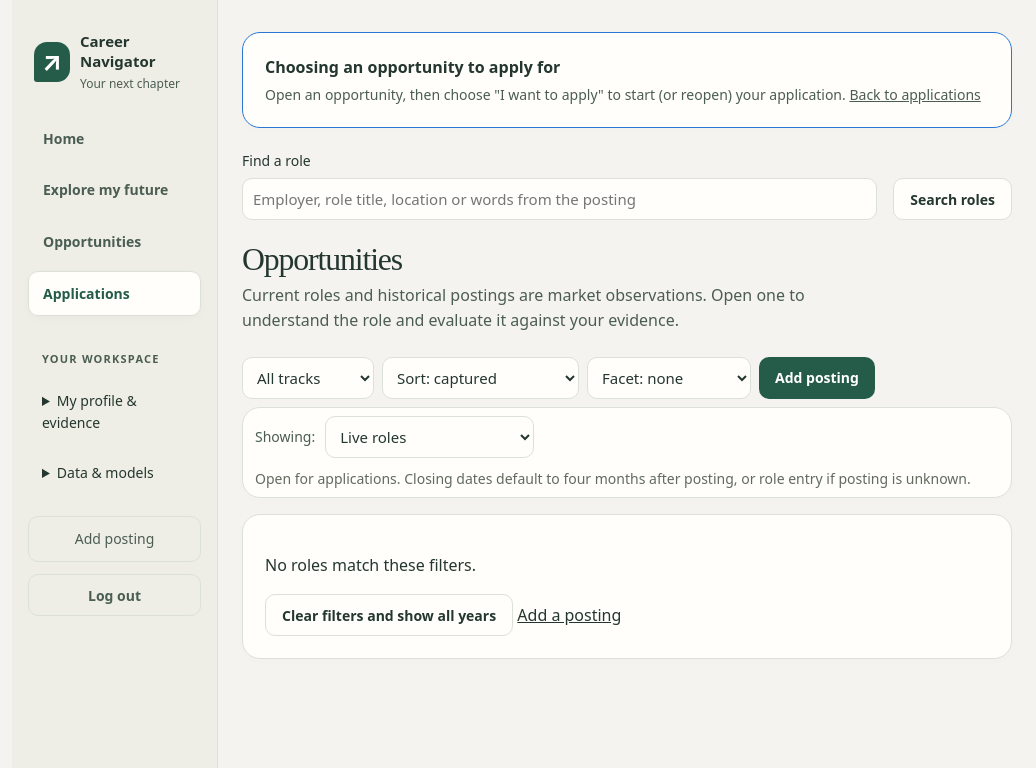
Test: pre-application intent (Applications → Opportunities) › "clear filters" keeps the intent
What coordinates should you click on to do the following:
click the button "Clear filters and show all years"
I would click on:
 (389, 615)
Its box is [265,594,513,636].
(page scrolled)
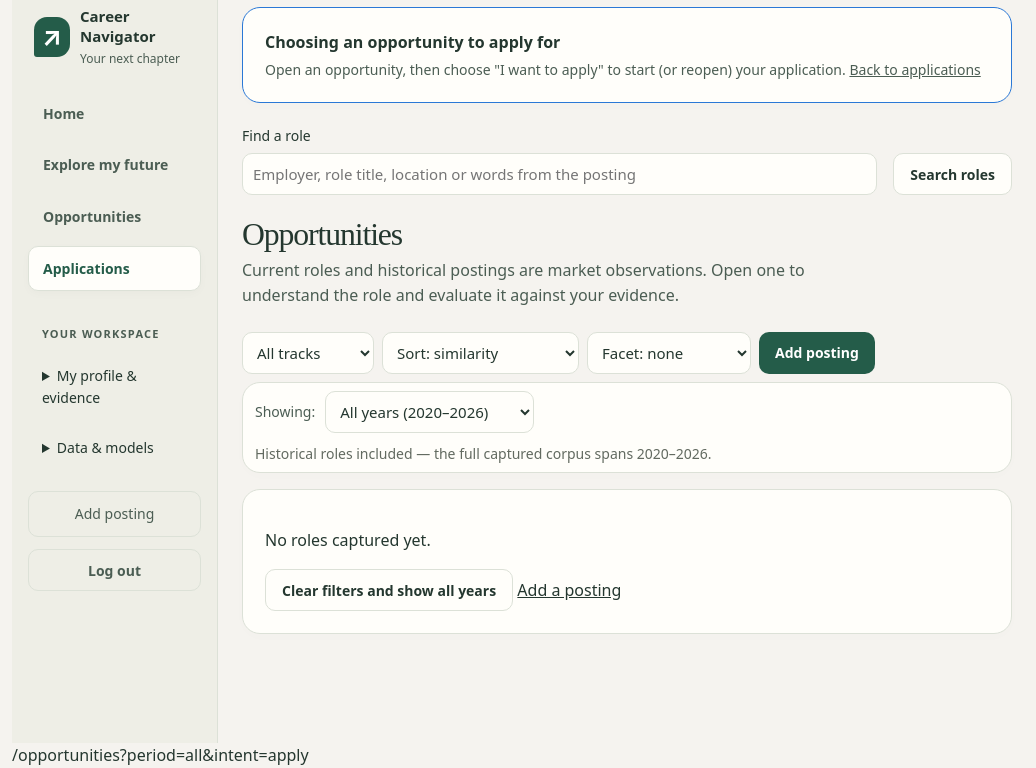
Expected: the text with test id "loc" shows "intent=apply", [12,744,309,766]
Expected: the text with test id "loc" shows "period=all", [12,744,309,766]
